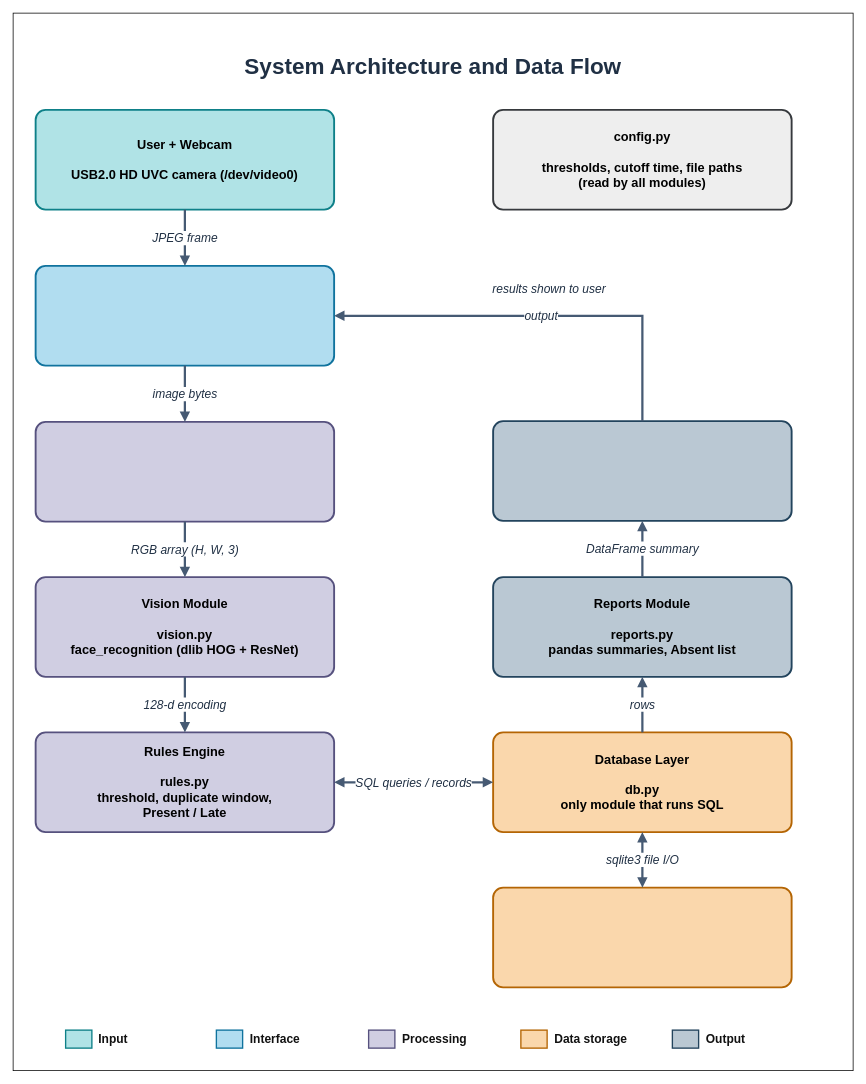
Some shapes in this 866 by 1084 pixel diagram are drawn without their labels. The shapes that lost their labels are listed below. From the top down, each one's centre as x and y in pixels, then its label:
At pixel 184 315: "Streamlit UI Enroll | Attendance | Reports pages Chrome at localhost:8501".
At pixel 184 471: "Validation Module validation.py image decode, blur, brightness, exactly one face".
At pixel 642 470: "Dashboard + CSV Export table, chart, attendance_YYYY-MM-DD.csv".
At pixel 642 937: "SQLite Database attendance.db persons | face_encodings | attendance".
